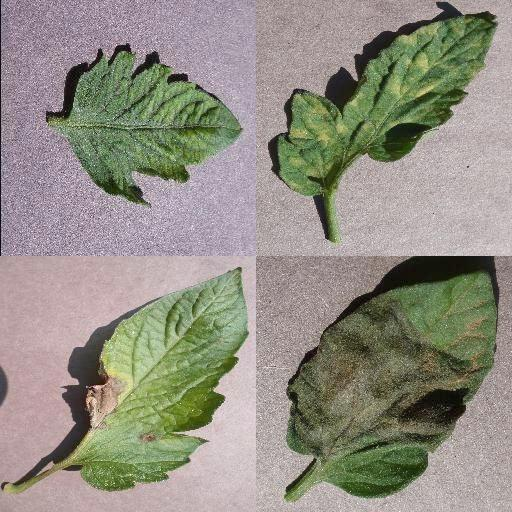Late Blight: (285, 270, 499, 498), (82, 266, 250, 490)
Leaf Mold: (280, 13, 498, 197)
Mosaic Virus: (62, 48, 244, 208)
